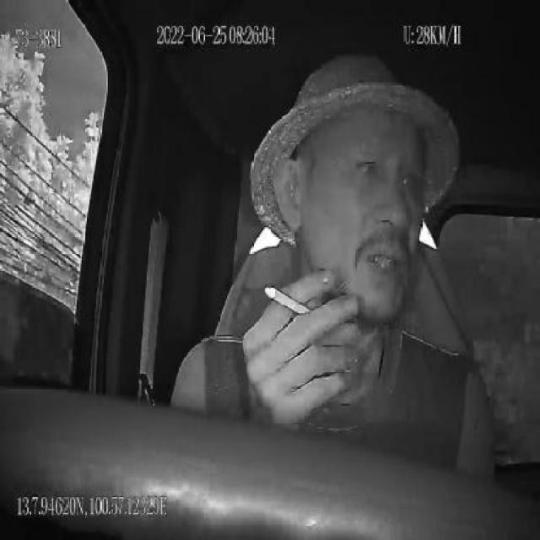smoking: (263, 281, 313, 314)
